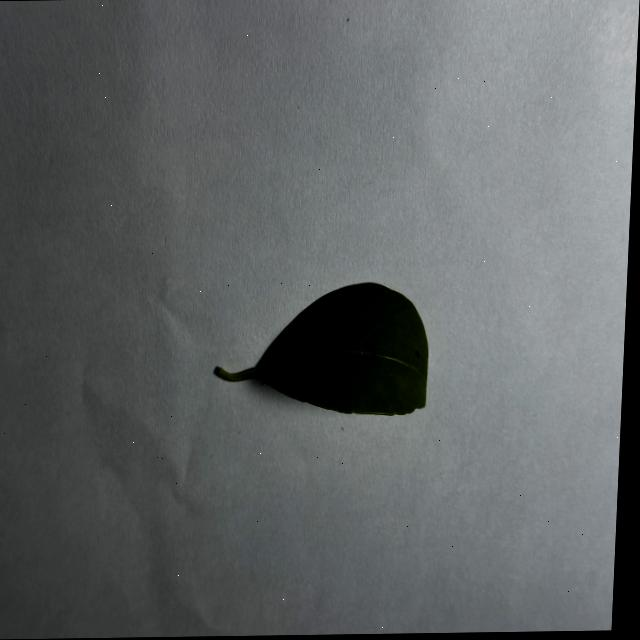greening: (216, 282, 428, 414)
